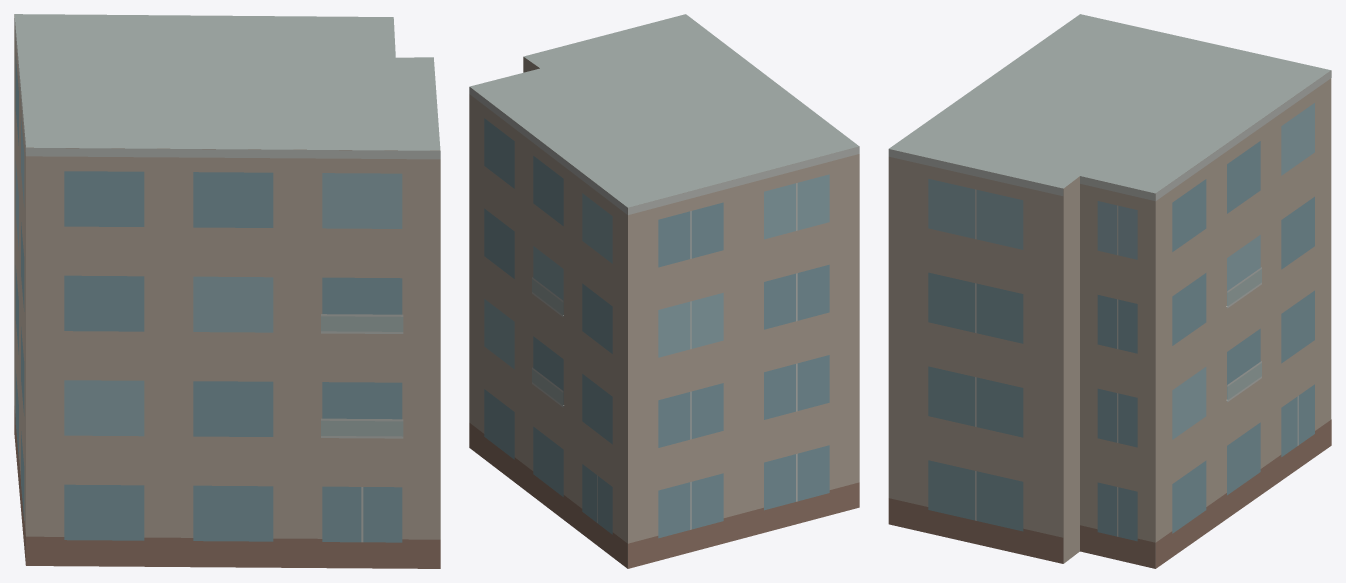
Rendered from survey-upis-32892683.glb.
3 renders of one model, left to right at view 1: azimuth 30°, elevation 25°; view 2: azimuth 150°, elevation 25°; view 3: azimuth 270°, elevation 25°, orthographic. The views are drawn at different scales.
Parts seen in each view (by area): view 1: survey-upis-32892683.tmp; view 2: survey-upis-32892683.tmp; view 3: survey-upis-32892683.tmp.
Part boxes in pixels (x1,y1,x2,y2): survey-upis-32892683.tmp: (14,14,440,568); survey-upis-32892683.tmp: (469,14,859,568); survey-upis-32892683.tmp: (888,14,1331,568).
Bounding box in the file's own units: 12.11 × 11.8 × 12.63.
